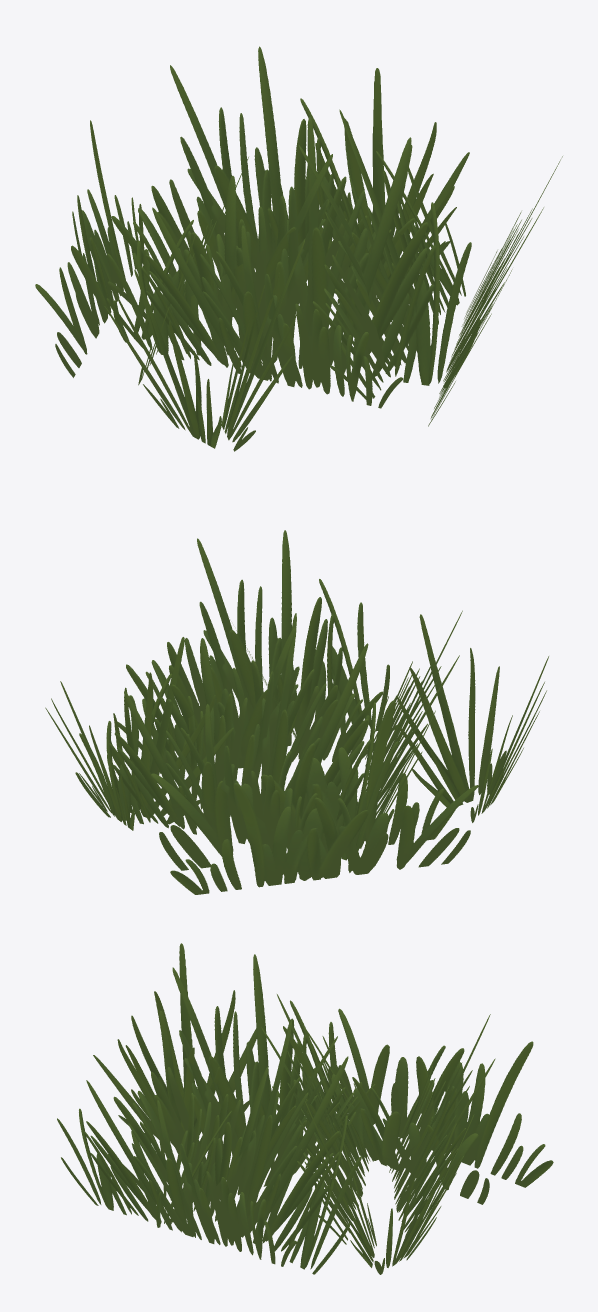
Rendered from Rocks_Grass4.fbx.
The picture shows the model from 3 angles, top to bottom: view 1: azimuth 30°, elevation 25°; view 2: azimuth 150°, elevation 25°; view 3: azimuth 270°, elevation 25°; orthographic projection. The views are drawn at different scales.
Parts seen in each view (by area): view 1: Rocks_Grass4_LOD0; view 2: Rocks_Grass4_LOD0; view 3: Rocks_Grass4_LOD0.
Boxes of the visible parts, <box> form: Rocks_Grass4_LOD0: <box>35,46,562,451</box>; Rocks_Grass4_LOD0: <box>45,530,548,894</box>; Rocks_Grass4_LOD0: <box>57,943,553,1274</box>.
Size of what is drawn, in the model's own units: 162 by 62.56 by 173.
